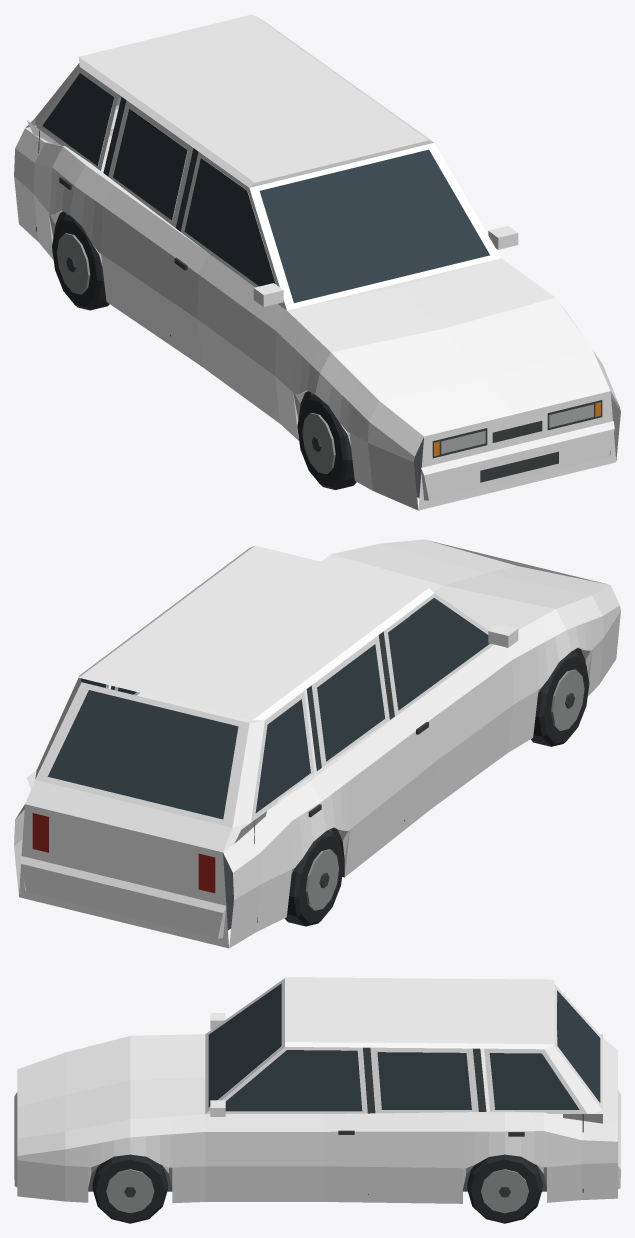
The model's file is mizuchi_suzaku_99.glb.
The picture shows the model from 3 angles, top to bottom: view 1: azimuth 30°, elevation 25°; view 2: azimuth 150°, elevation 25°; view 3: azimuth 270°, elevation 25°; orthographic projection. The views are drawn at different scales.
Parts seen in each view (by area): view 1: mizuchi_suzaku_99; view 2: mizuchi_suzaku_99; view 3: mizuchi_suzaku_99.
Part boxes in pixels (x1,y1,x2,y2): mizuchi_suzaku_99: (14,14,620,510); mizuchi_suzaku_99: (14,539,620,948); mizuchi_suzaku_99: (14,977,620,1223).
Bounding box in the file's own units: 1.79 × 1.48 × 4.81.
Materials: 8 (1 with a texture image).
